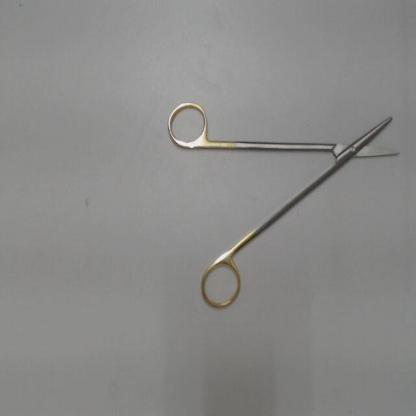7 Metzenbaum Scissors: (162, 93, 404, 313)
